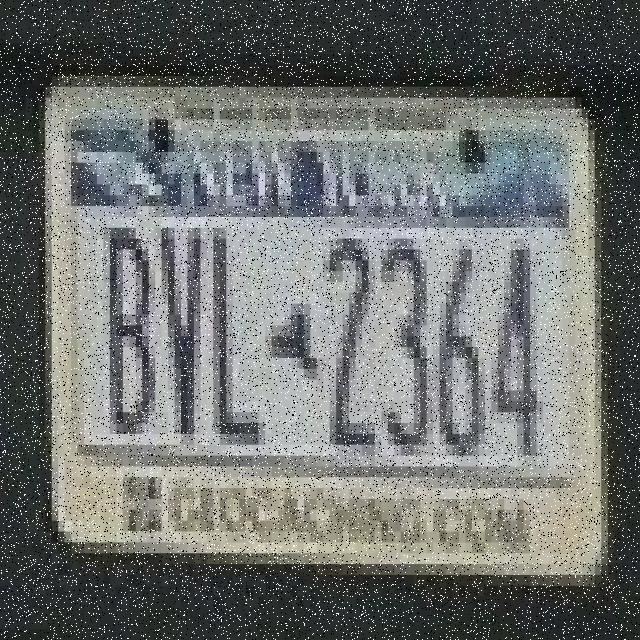licenseplate: (32, 46, 618, 618)
